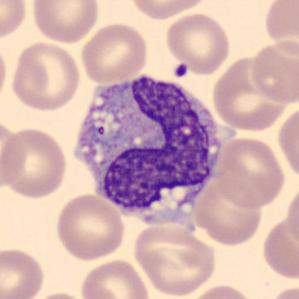Monocyte: (66, 68, 229, 232)
Platelets: (172, 62, 190, 79)
RBC: (210, 51, 294, 134), (131, 221, 218, 298), (212, 135, 288, 210), (9, 39, 84, 113), (1, 124, 70, 201), (53, 192, 127, 262), (197, 178, 264, 247), (162, 10, 232, 76), (78, 21, 150, 85), (247, 37, 299, 105), (29, 0, 101, 44), (259, 205, 298, 284), (79, 257, 152, 299), (0, 244, 47, 299), (0, 118, 28, 193), (262, 0, 298, 52), (126, 0, 211, 21), (276, 102, 298, 182), (0, 0, 30, 42), (185, 282, 258, 299), (285, 184, 299, 251), (0, 38, 10, 105), (28, 289, 92, 299), (265, 282, 298, 299)
